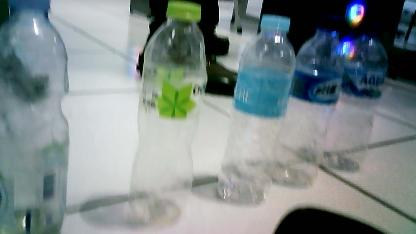Plastic Bottle: (130, 1, 209, 228), (0, 0, 68, 232), (216, 14, 296, 206), (267, 11, 343, 191), (318, 8, 388, 172)
